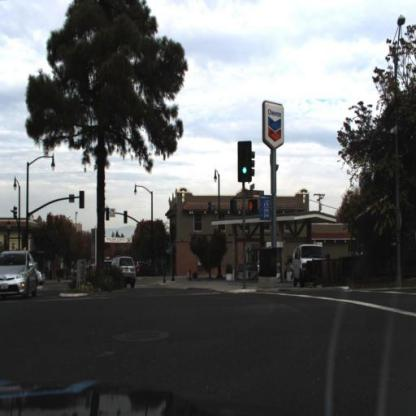car: (1, 249, 40, 301), (292, 242, 332, 285), (109, 255, 138, 289)
trafficLight-Green: (238, 139, 252, 186)
